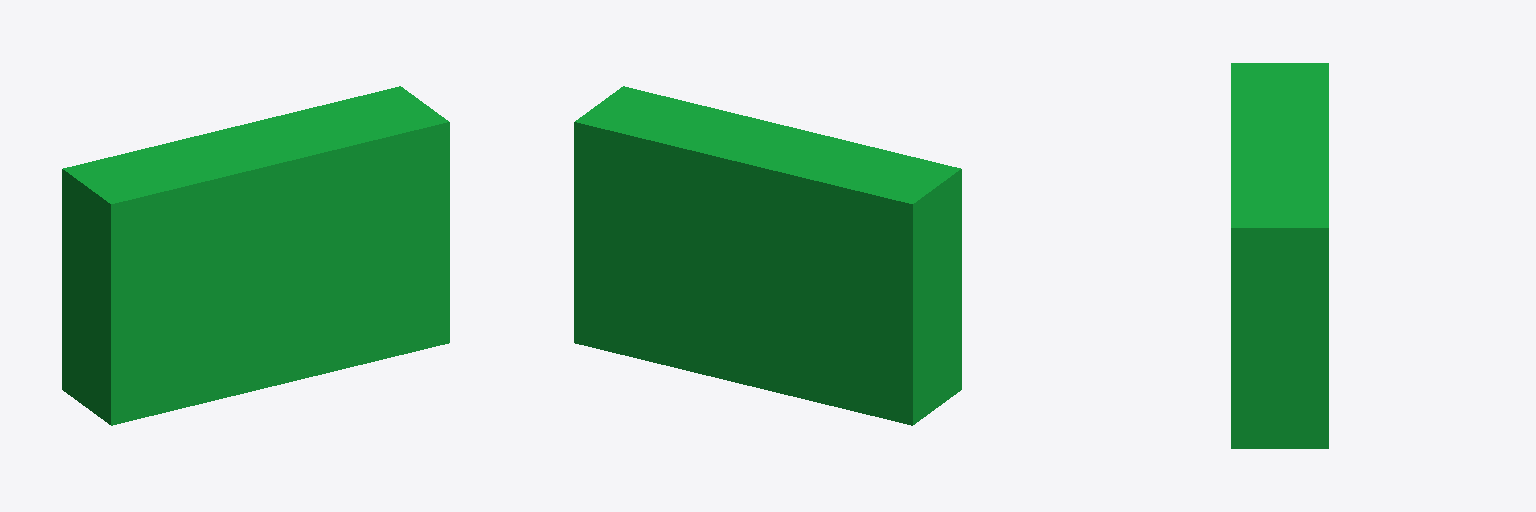
The model's file is Subsampling_Cube.obj.
3 views of the same model, side by side, from view 1: azimuth 30°, elevation 25°; view 2: azimuth 150°, elevation 25°; view 3: azimuth 270°, elevation 25° (orthographic).
Bounding box in the file's own units: 80 × 50 × 20.